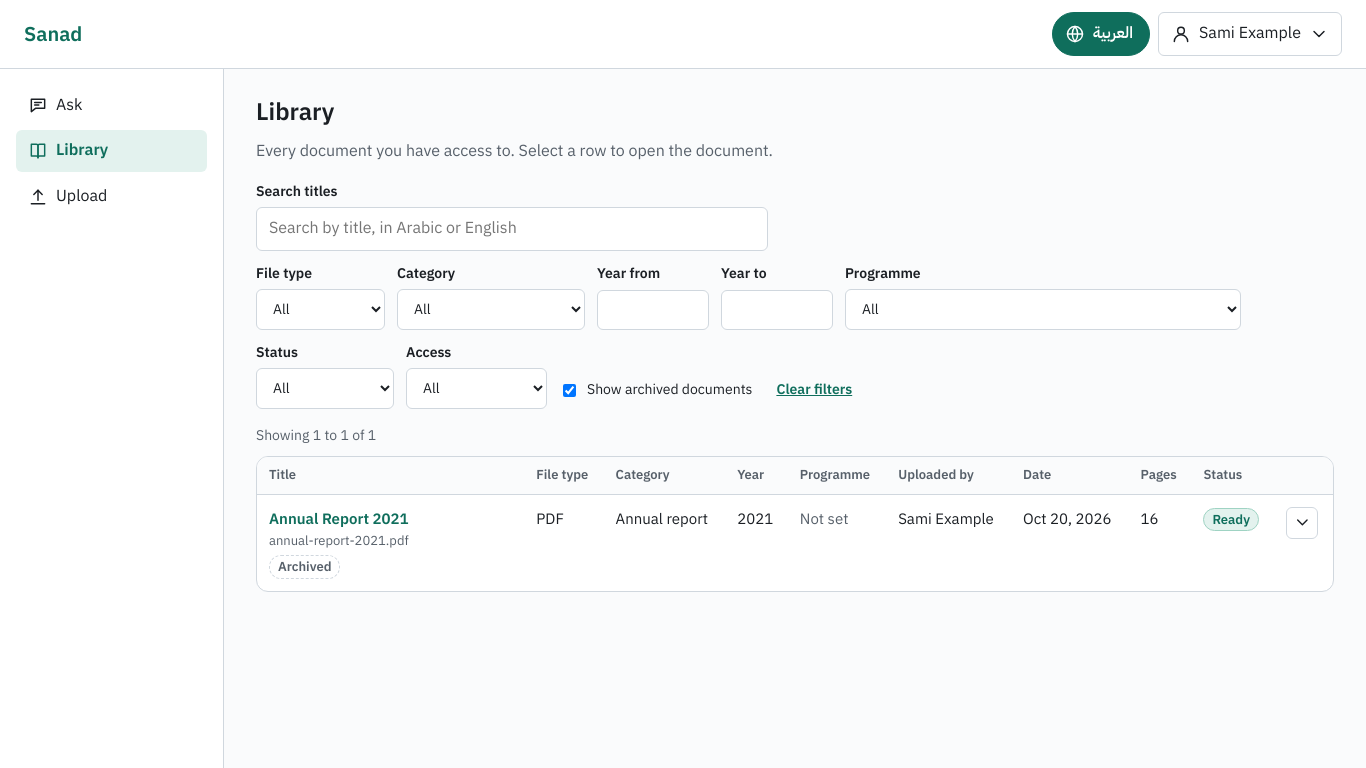
Test: editor actions › shows the translated reason when an action is refused
Expected: the text "Archived" is shown, [269,555,340,579]
Step 1. Click the button named "Actions for Annual Report 2021" → (1302, 522), box [1286,506,1318,538]
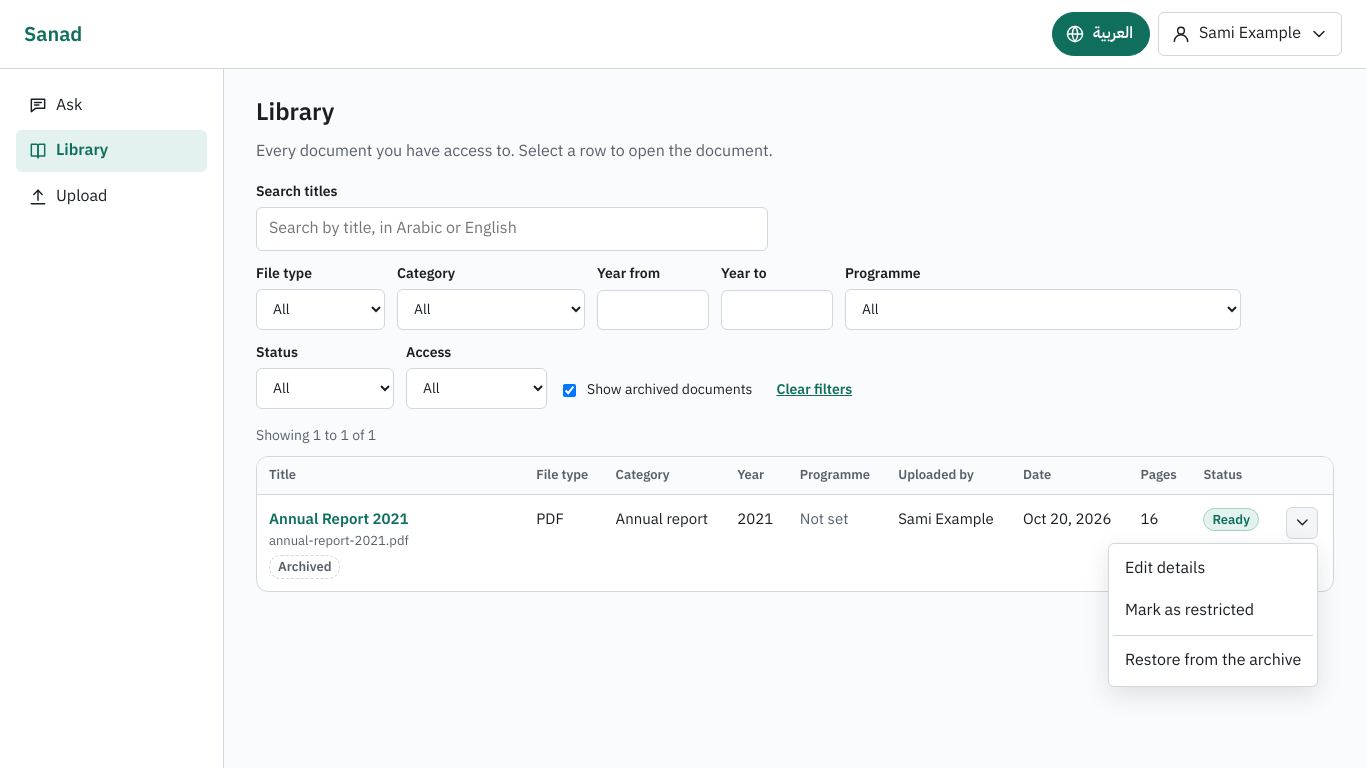
Step 2. Click the menu item "Restore from the archive" → (1213, 660), box [1125,648,1301,672]
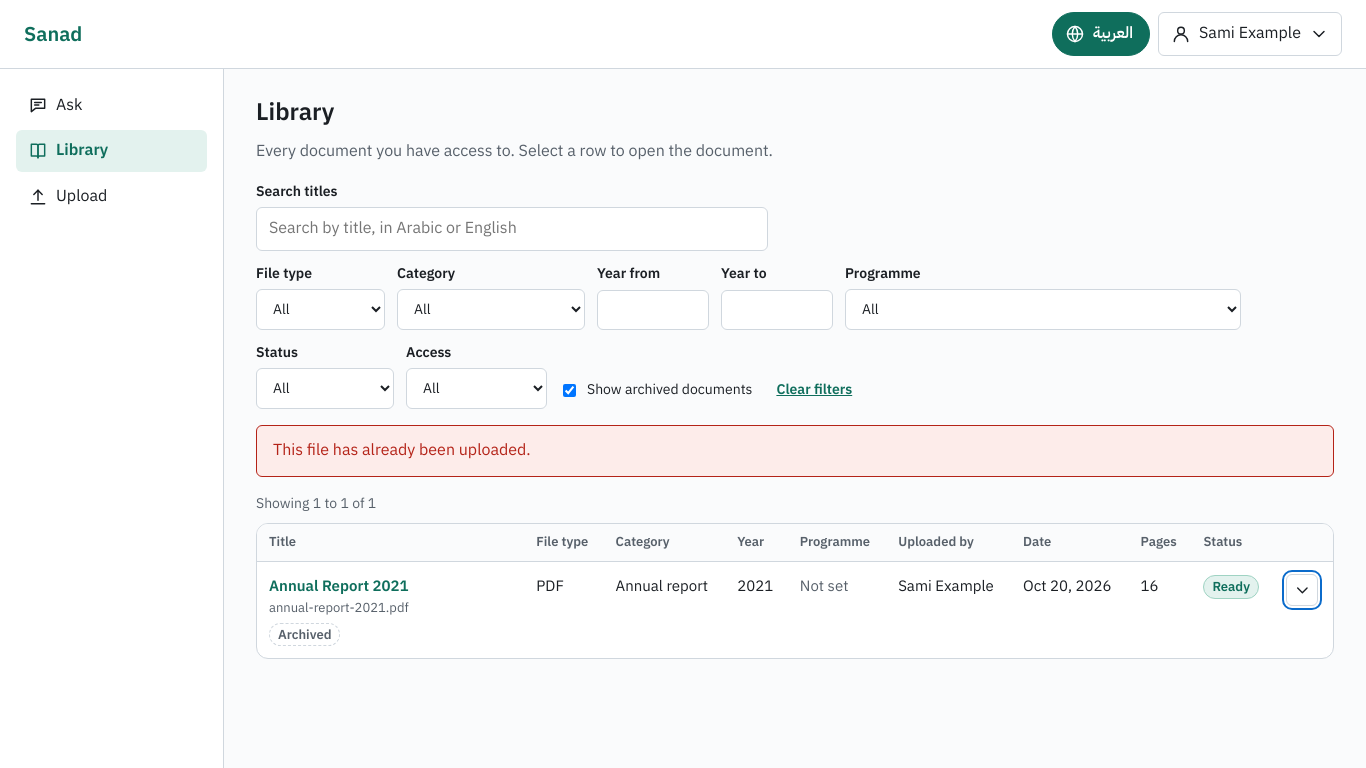
Expected: the message reads "This file has already been uploaded.", [273,438,531,462]
